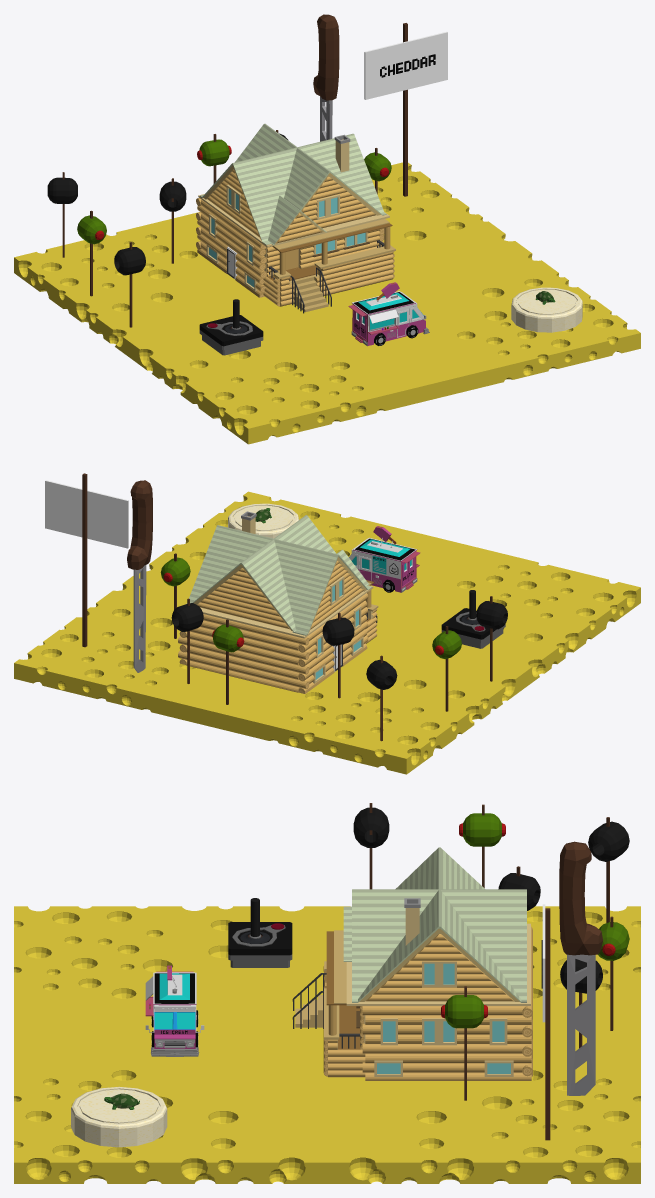
3 views of the same model, one above another, from view 1: azimuth 30°, elevation 25°; view 2: azimuth 150°, elevation 25°; view 3: azimuth 270°, elevation 25° (orthographic). The views are drawn at different scales.
Visible parts, largest first — view 1: Cube.022, Cube.1516, Cube.023, VEHICLES_ICE_CREAM_TRUCK, Cylinder.016, Cube.024, OBJRANDOM_JOYSTICK, Sphere.017, Sphere.016, Sphere.020, Sphere.018, Sphere.022 (+1 smaller); view 2: Cube.022, Cube.1516, Cube.023, Cube.024, VEHICLES_ICE_CREAM_TRUCK, OBJRANDOM_JOYSTICK, Cylinder.016, Sphere.017, Sphere.020, Sphere.021, Sphere.016, Sphere.018 (+2 smaller); view 3: Cube.022, Cube.1516, Cube.024, Cylinder.016, VEHICLES_ICE_CREAM_TRUCK, OBJRANDOM_JOYSTICK, Cube.023, Sphere.019, Sphere.016, Sphere.018, Sphere.017, Sphere.022 (+2 smaller).
Part boxes in pixels (x1,y1,x2,y2): Cube.022: (14, 162, 640, 444); Cube.1516: (196, 123, 395, 313); Cube.023: (364, 23, 447, 196); VEHICLES_ICE_CREAM_TRUCK: (348, 282, 429, 346); Cylinder.016: (511, 287, 582, 332); Cube.024: (313, 14, 339, 141); OBJRANDOM_JOYSTICK: (199, 299, 263, 355); Sphere.017: (114, 242, 145, 327); Sphere.016: (47, 172, 77, 257); Sphere.020: (159, 178, 186, 263); Sphere.018: (77, 210, 106, 296); Sphere.022: (197, 134, 231, 183); Cube.022: (14, 491, 640, 774); Cube.1516: (178, 511, 378, 693); Cube.023: (45, 473, 128, 647); Cube.024: (127, 480, 152, 672); VEHICLES_ICE_CREAM_TRUCK: (349, 526, 420, 592); OBJRANDOM_JOYSTICK: (441, 590, 505, 648); Cylinder.016: (228, 503, 298, 538); Sphere.017: (476, 596, 507, 681); Sphere.020: (322, 612, 354, 698); Sphere.021: (171, 598, 203, 683); Sphere.016: (366, 655, 397, 741); Sphere.018: (432, 626, 461, 711); Cube.022: (14, 906, 640, 1183); Cube.1516: (292, 847, 532, 1080); Cube.024: (559, 841, 602, 1095); Cylinder.016: (71, 1086, 167, 1147); VEHICLES_ICE_CREAM_TRUCK: (145, 965, 204, 1056); OBJRANDOM_JOYSTICK: (228, 898, 292, 967); Cube.023: (541, 904, 550, 1140); Sphere.019: (441, 986, 487, 1100); Sphere.016: (588, 817, 629, 922); Sphere.018: (459, 804, 505, 887); Sphere.017: (353, 803, 389, 889); Sphere.022: (598, 916, 629, 1030).
Size of the model in its own units: 3917 by 2030 by 4000.
53 materials, 5 textured.
